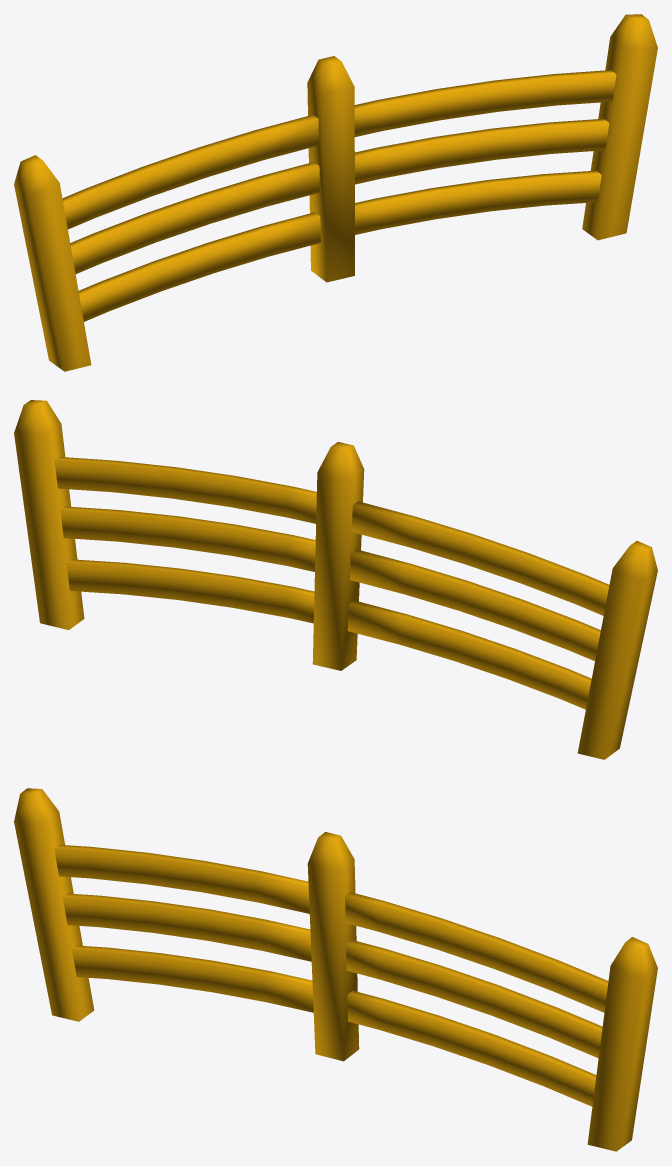
File: Fence.fbx
3 renders of one model, top to bottom at view 1: azimuth 30°, elevation 25°; view 2: azimuth 150°, elevation 25°; view 3: azimuth 330°, elevation 25°, orthographic.
Visible parts, largest first — view 1: Cube.001; view 2: Cube.001; view 3: Cube.001.
Boxes of the visible parts, bbox=[...] form: Cube.001: bbox=[14, 14, 657, 371]; Cube.001: bbox=[14, 400, 657, 759]; Cube.001: bbox=[14, 788, 657, 1151].
Size of the model in its own units: 226 by 82.84 by 11.45.
